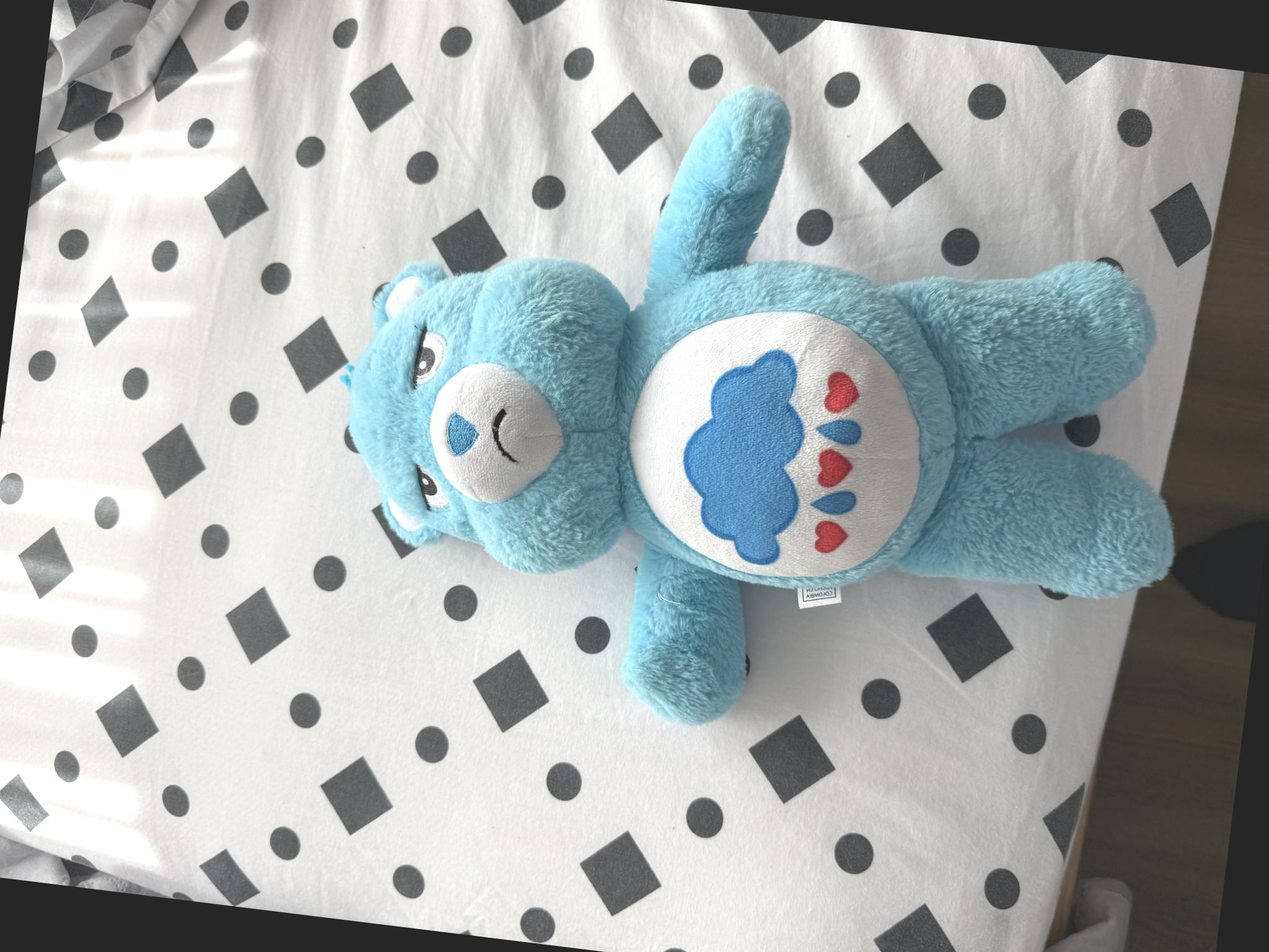peluche_Juan Jose: (316, 37, 1218, 777)
